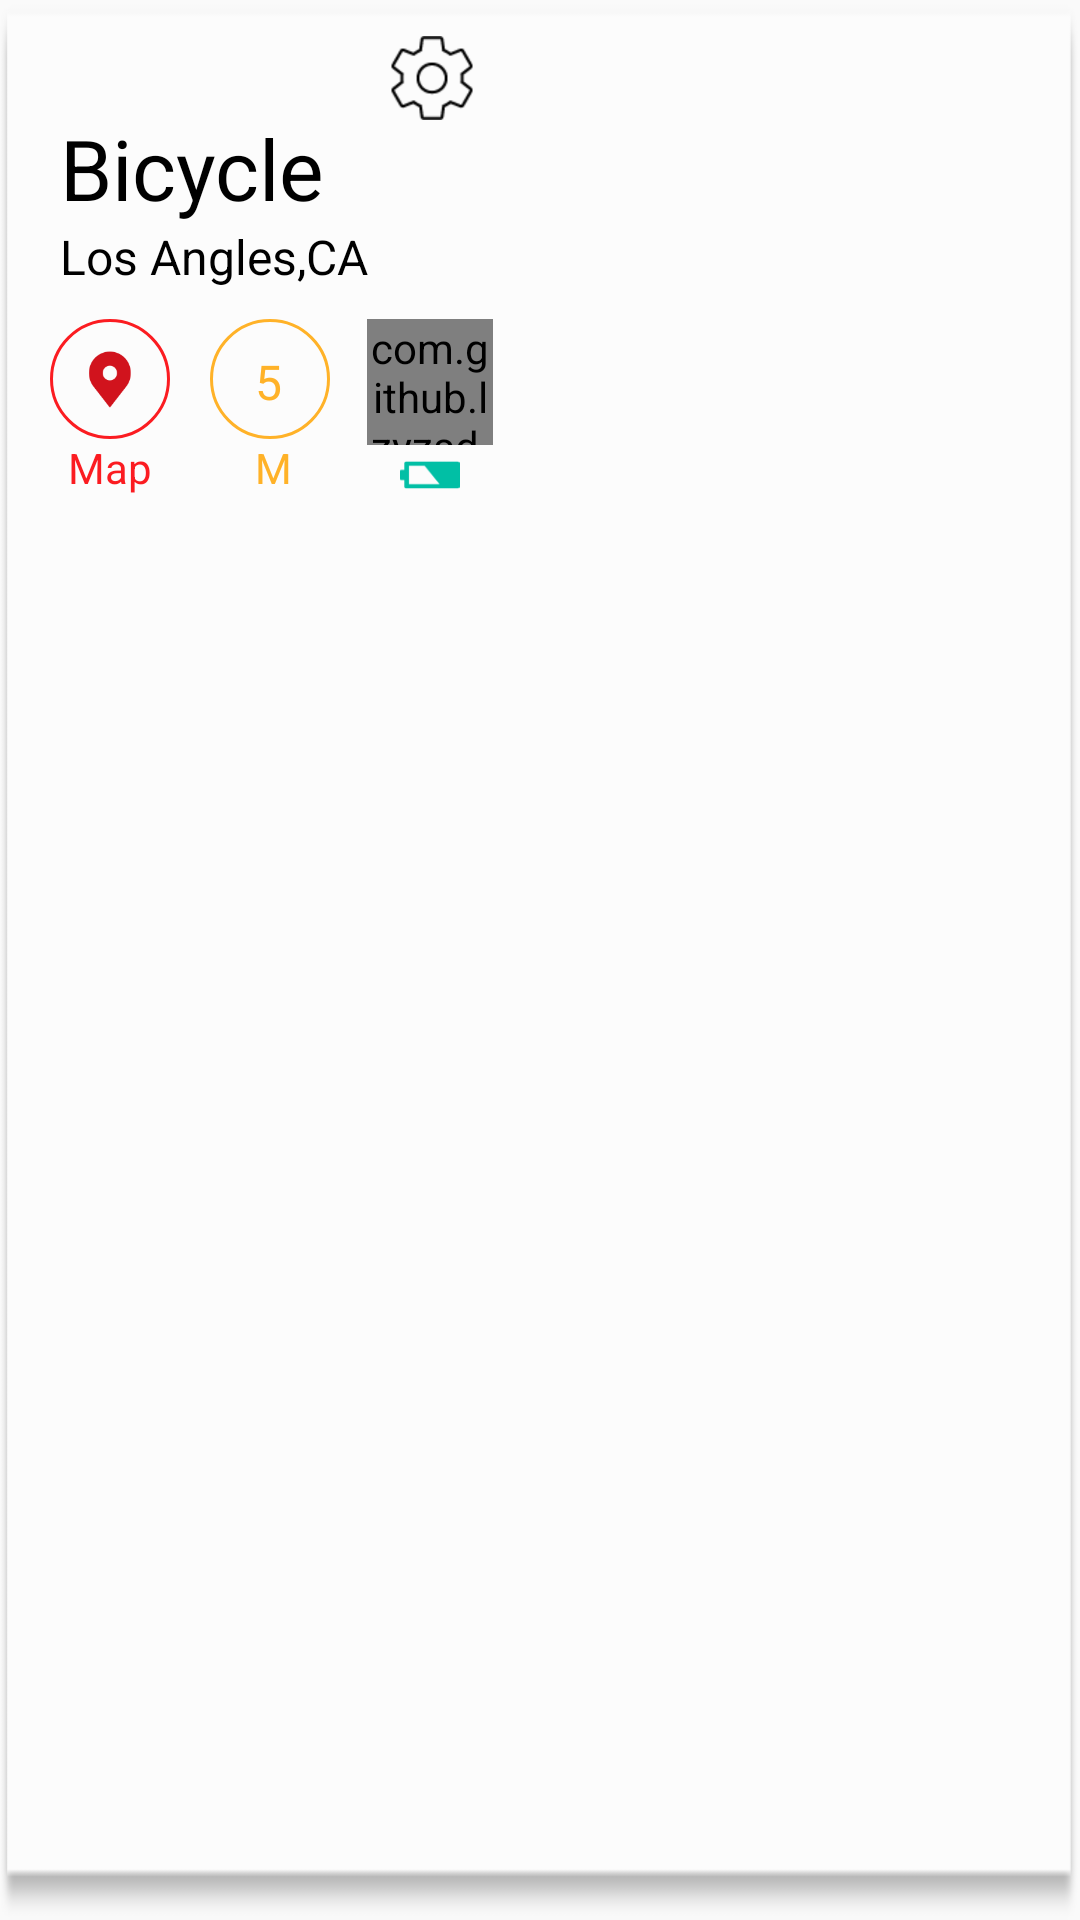

Screen size 1080px x 1920px. Icon name, then its box in pixels as (x1, y1, x2, y2):
battery: (400, 461, 460, 489)
loc pin: (50, 319, 170, 439)
settings: (391, 36, 473, 120)
